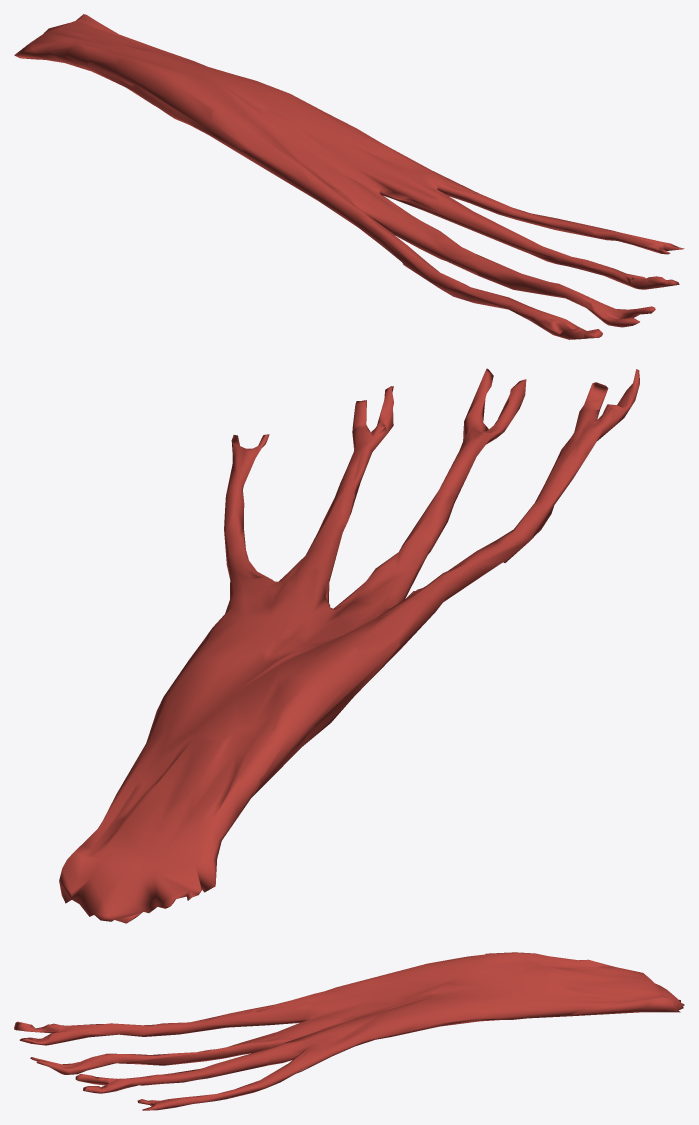
The model's file is musculos-flexor-digitorum-brevis-l.glb.
3 renders of one model, top to bottom at view 1: azimuth 30°, elevation 25°; view 2: azimuth 150°, elevation 25°; view 3: azimuth 270°, elevation 25°, orthographic. The views are drawn at different scales.
Parts seen in each view (by area): view 1: Flexor digitorum brevis.l; view 2: Flexor digitorum brevis.l; view 3: Flexor digitorum brevis.l.
Boxes of the visible parts, x1=… form: Flexor digitorum brevis.l: x1=14, y1=14, x2=684, y2=339; Flexor digitorum brevis.l: x1=59, y1=368, x2=639, y2=923; Flexor digitorum brevis.l: x1=14, y1=952, x2=684, y2=1110.
Bounding box in the file's own units: 0.0784 × 0.02 × 0.188.
